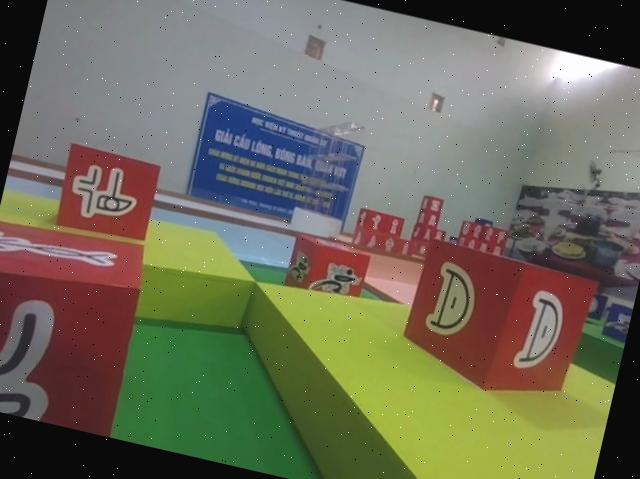R1: (279, 223, 374, 310)
R2 Fake: (0, 207, 158, 438)
R2 Real: (395, 232, 599, 412), (48, 137, 170, 246)
